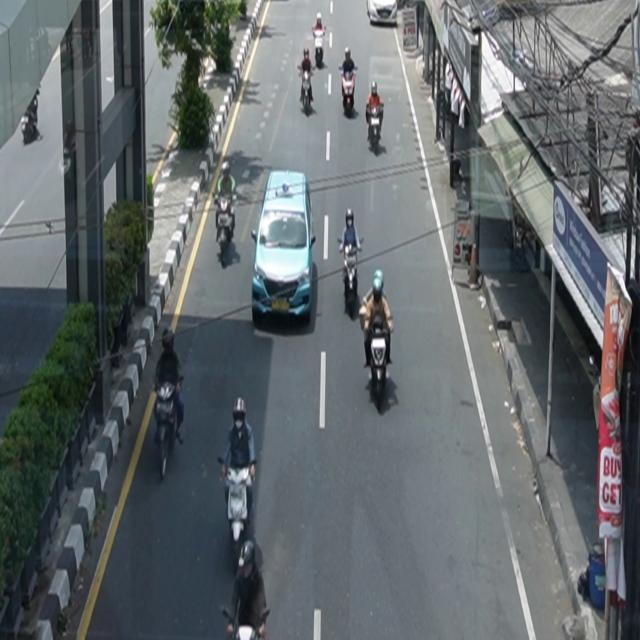car: (251, 169, 317, 324)
